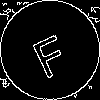F: (25, 25, 73, 80)
